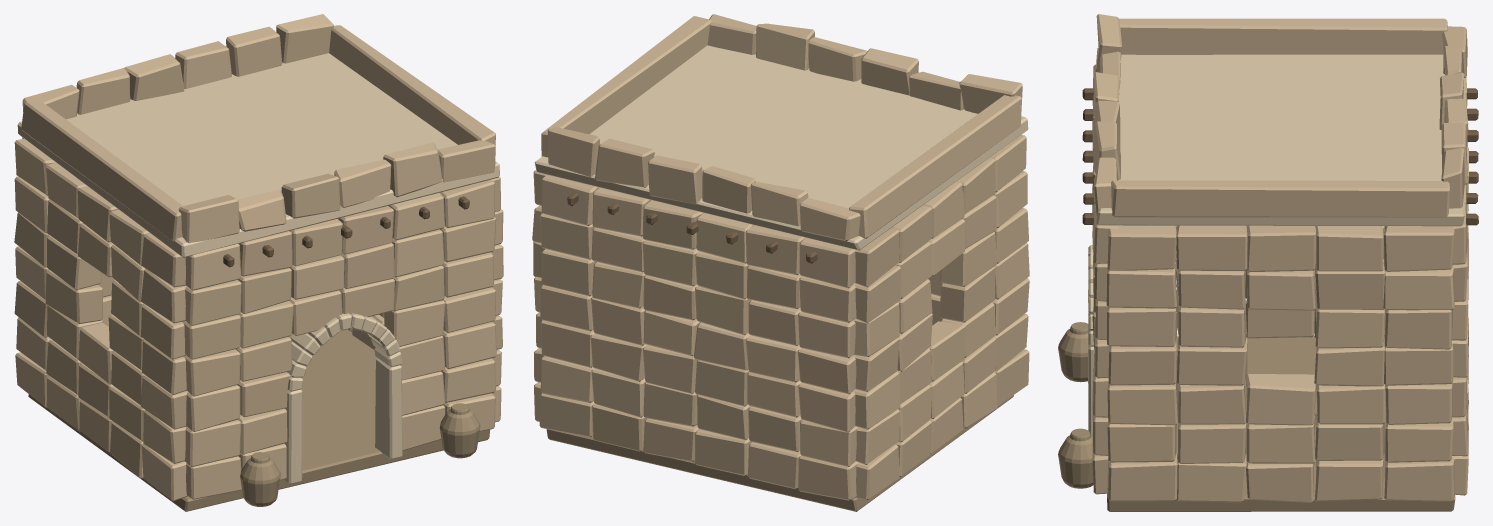
File: house0.glb
3 views of the same model, side by side, from view 1: azimuth 30°, elevation 25°; view 2: azimuth 150°, elevation 25°; view 3: azimuth 270°, elevation 25° (orthographic). The views are drawn at different scales.
Visible parts, largest first — view 1: house0_stone, house0_trim, house0_darkstone, house0_wood; view 2: house0_stone, house0_trim, house0_darkstone, house0_wood; view 3: house0_stone, house0_trim, house0_darkstone, house0_wood.
Part boxes in pixels (left/top/right/bottom): house0_stone: left=14, top=14, right=503, bottom=501; house0_trim: left=17, top=53, right=499, bottom=484; house0_darkstone: left=28, top=329, right=489, bottom=511; house0_wood: left=223, top=196, right=469, bottom=267; house0_stone: left=532, top=14, right=1029, bottom=500; house0_trim: left=534, top=45, right=1028, bottom=250; house0_darkstone: left=546, top=395, right=1013, bottom=511; house0_wood: left=567, top=192, right=817, bottom=263; house0_stone: left=1092, top=14, right=1469, bottom=502; house0_trim: left=1088, top=47, right=1464, bottom=435; house0_darkstone: left=1058, top=322, right=1455, bottom=511; house0_wood: left=1082, top=88, right=1478, bottom=225.
Bounding box in the file's own units: 8.52 × 7.56 × 8.51.
